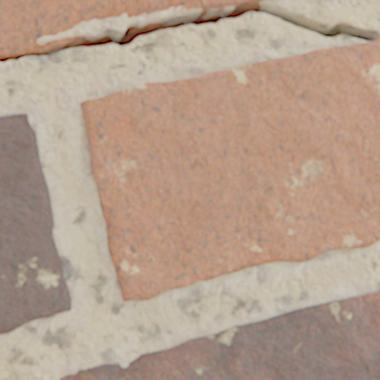brick: (80, 40, 379, 300), (59, 289, 379, 379), (0, 113, 71, 333), (0, 0, 263, 55), (48, 39, 61, 42)
crack: (0, 1, 379, 62)
